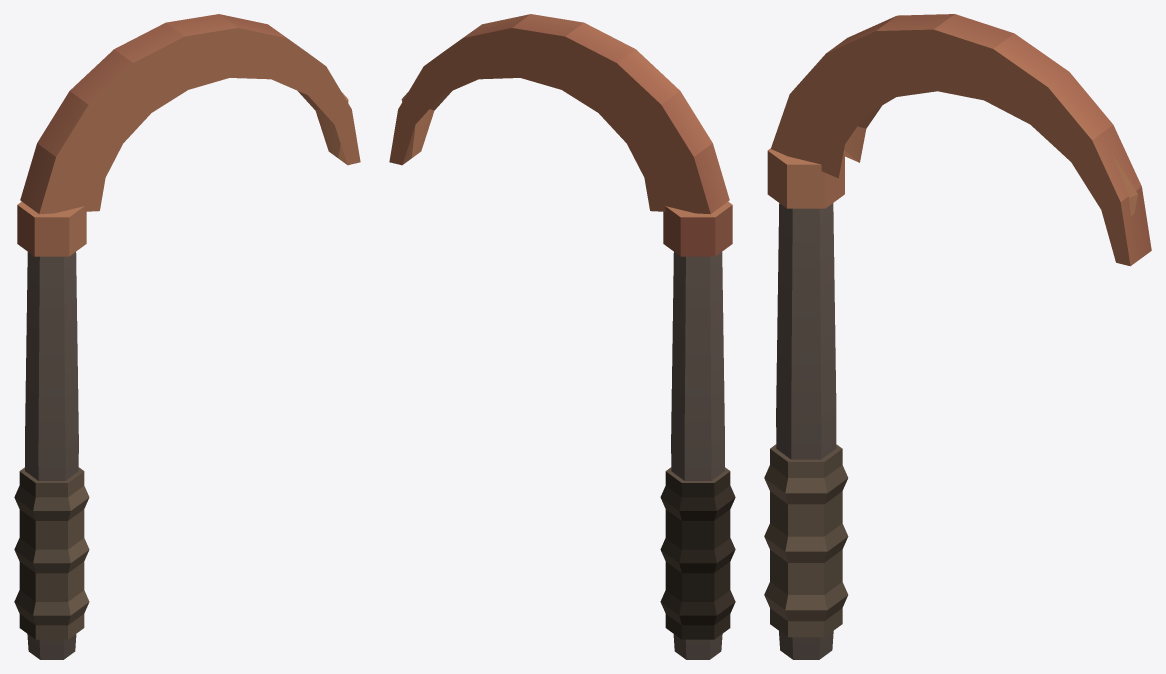
File: rogue_sickles_0.gltf
The picture shows the model from 3 angles, left to right: view 1: azimuth 30°, elevation 25°; view 2: azimuth 150°, elevation 25°; view 3: azimuth 330°, elevation 25°; orthographic projection. The views are drawn at different scales.
Parts seen in each view (by area): view 1: rogue_sickles_0; view 2: rogue_sickles_0; view 3: rogue_sickles_0.
Boxes of the visible parts, left/top/right/bottom form: rogue_sickles_0: left=14, top=14, right=360, bottom=659; rogue_sickles_0: left=389, top=14, right=735, bottom=659; rogue_sickles_0: left=764, top=14, right=1151, bottom=659.
Size of the model in its own units: 0.4373 by 0.7552 by 0.087.
1 material, 1 textured.
